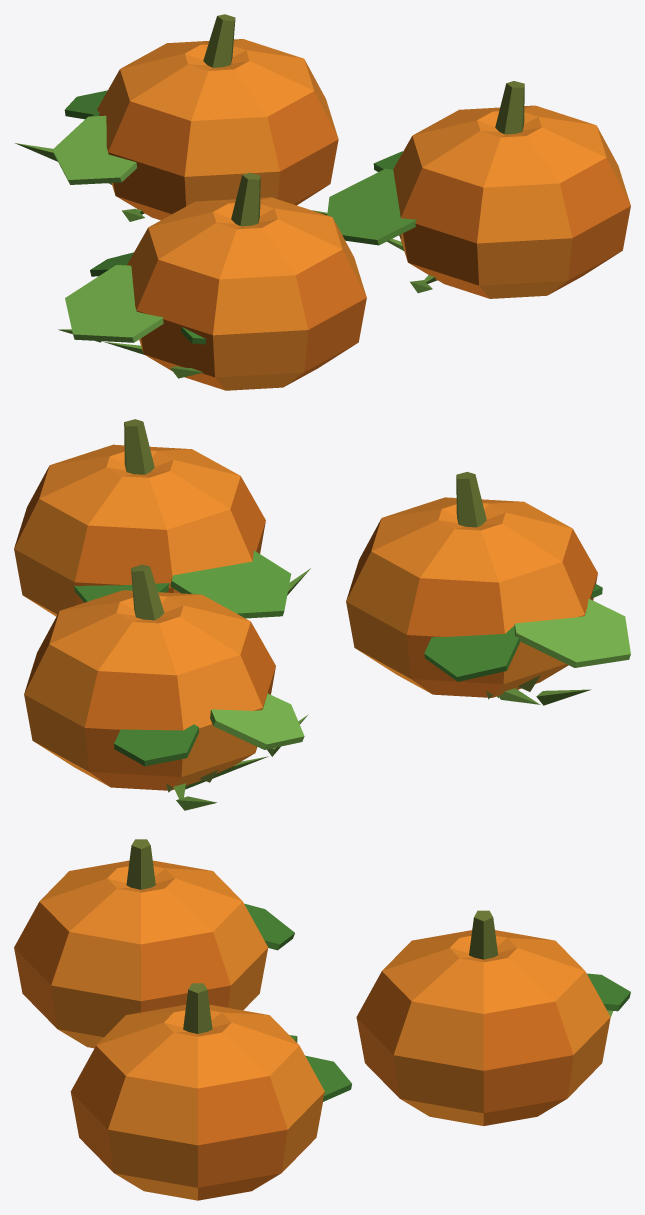
Rendered from pumpkin-4.glb.
3 renders of one model, top to bottom at view 1: azimuth 30°, elevation 25°; view 2: azimuth 150°, elevation 25°; view 3: azimuth 270°, elevation 25°, orthographic. The views are drawn at different scales.
Parts seen in each view (by area): view 1: pumpkin-4; view 2: pumpkin-4; view 3: pumpkin-4.
Boxes of the visible parts, box(x1,y1,x2,y2) form: pumpkin-4: box(15, 14, 630, 390); pumpkin-4: box(14, 419, 630, 810); pumpkin-4: box(14, 839, 630, 1200).
Size of the model in its own units: 0.7766 by 0.2524 by 0.7279.
1 material, 1 textured.
